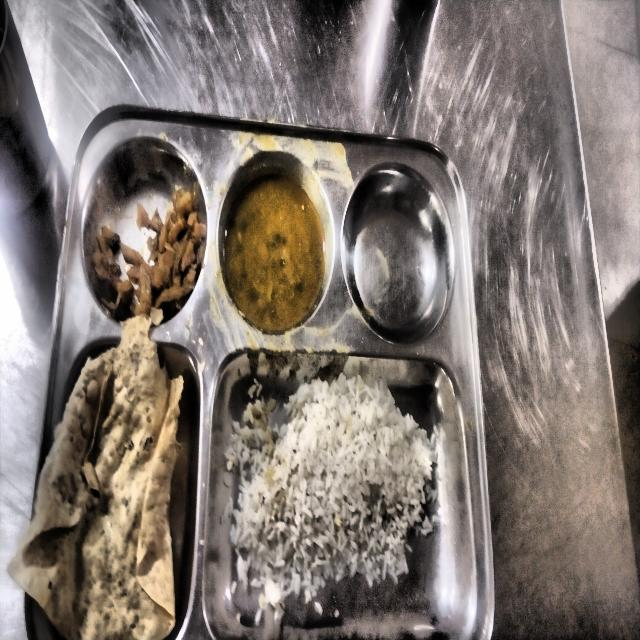Chilli-paneer: (230, 176, 325, 333)
No-waste: (11, 317, 184, 640)
Raita: (231, 379, 437, 608)
gajar-aloo: (93, 191, 187, 292)
